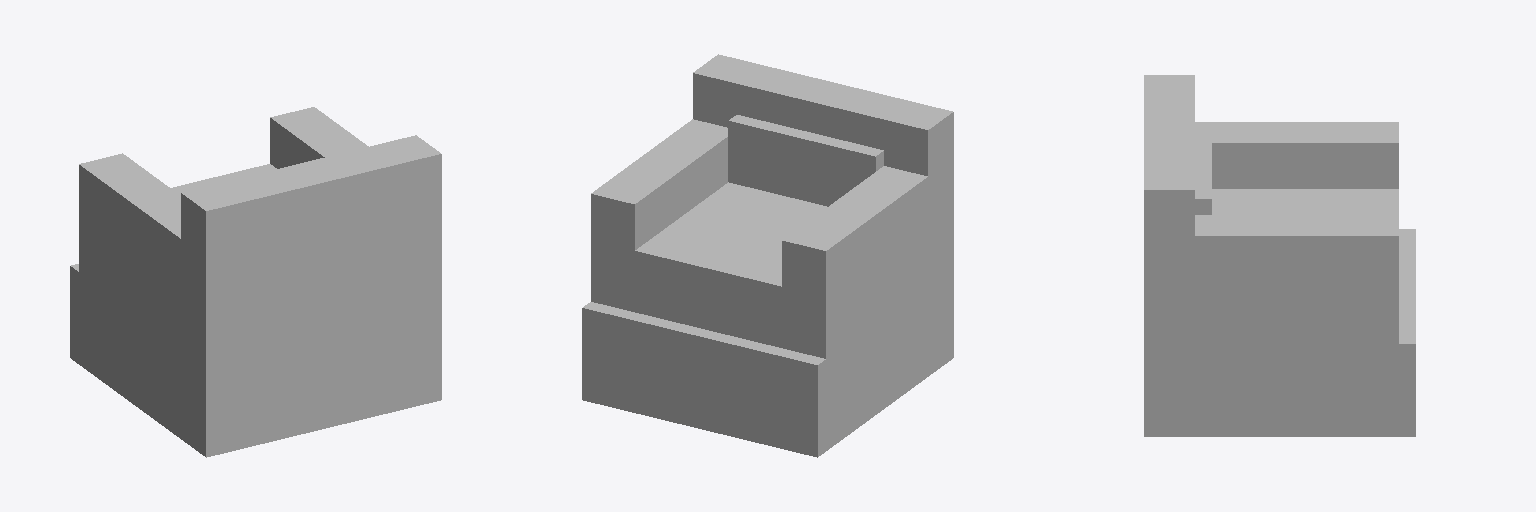
File: sofa_-_converted.obj
The picture shows the model from 3 angles: view 1: azimuth 30°, elevation 25°; view 2: azimuth 150°, elevation 25°; view 3: azimuth 270°, elevation 25°; orthographic projection.
Parts seen in each view (by area): view 1: cube; view 2: cube; view 3: cube.
Boxes of the visible parts, x1=… form: cube: x1=70, y1=107, x2=441, y2=457; cube: x1=582, y1=54, x2=953, y2=457; cube: x1=1144, y1=75, x2=1415, y2=436.
Bounding box in the file's own units: 1 × 1 × 1.